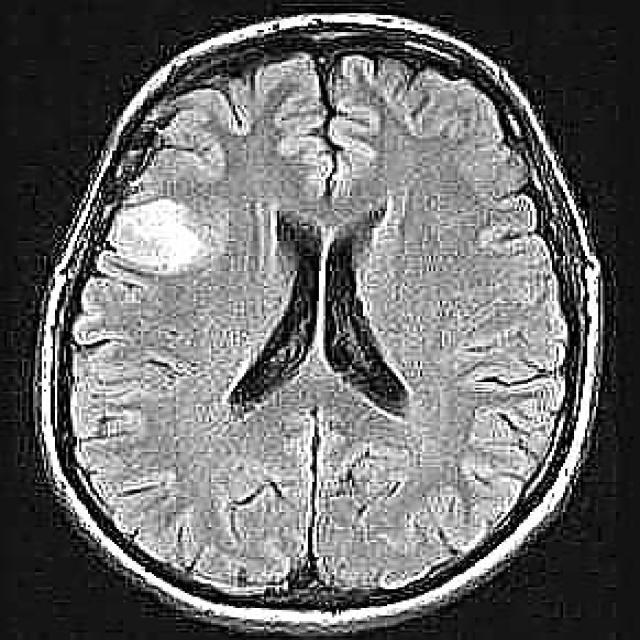Tumor-Cell: (115, 198, 213, 269)
